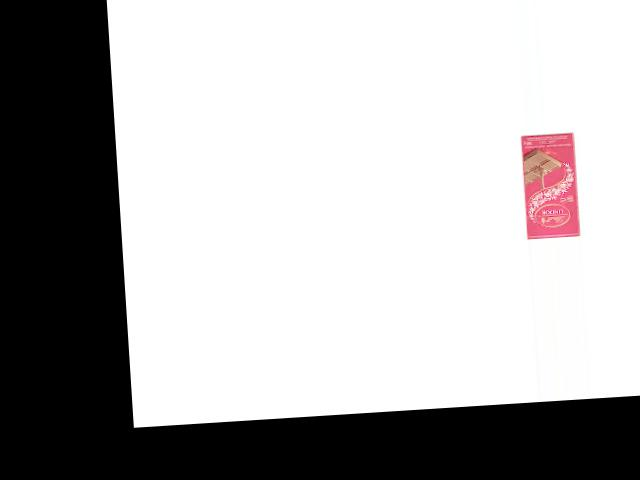chocolate: (515, 133, 582, 239)
